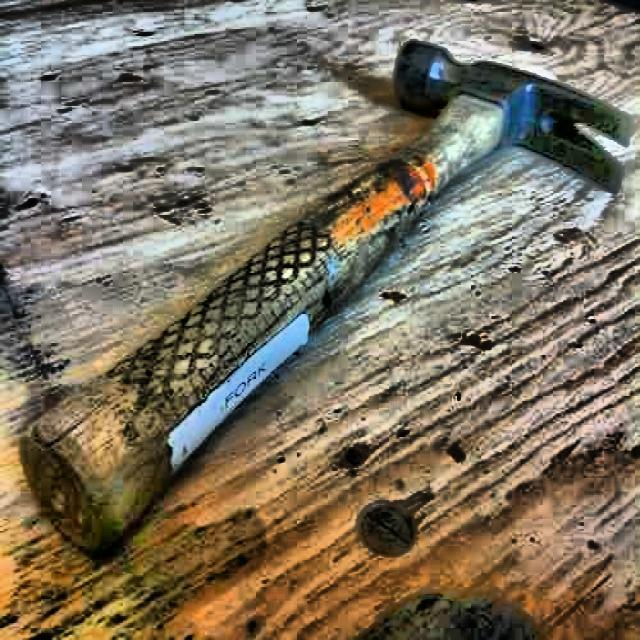hammer: (16, 40, 637, 552)
